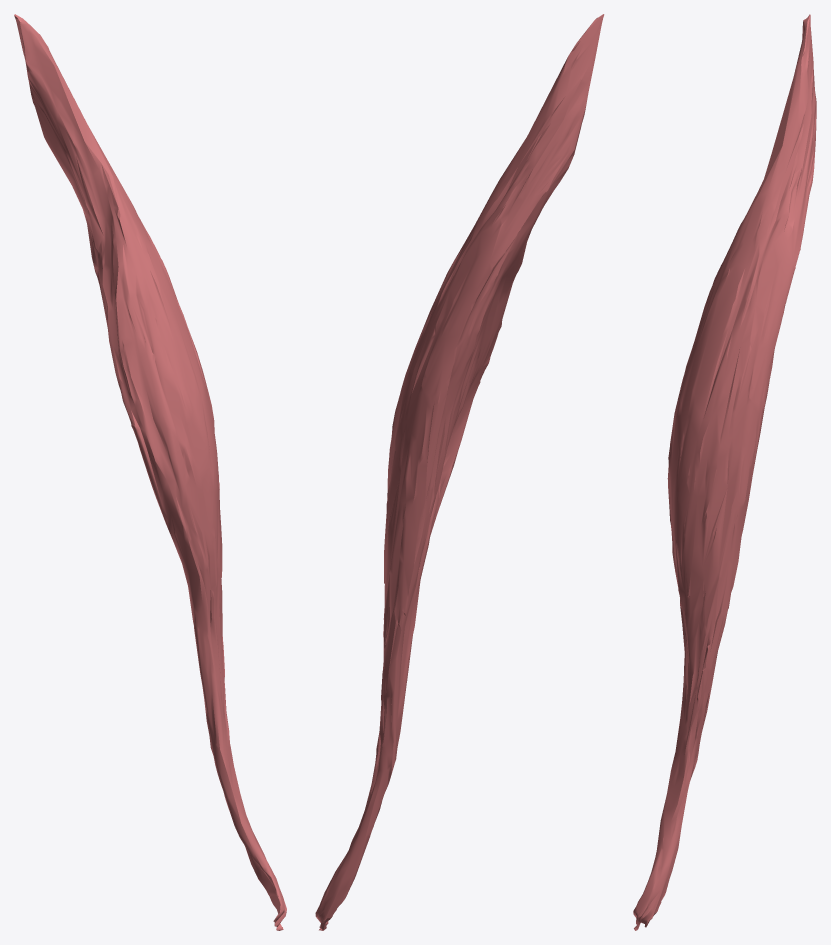
3 views of the same model, side by side, from view 1: azimuth 30°, elevation 25°; view 2: azimuth 210°, elevation 25°; view 3: azimuth 270°, elevation 25° (orthographic). The views are drawn at different scales.
Parts seen in each view (by area): view 1: FJ1487M; view 2: FJ1487M; view 3: FJ1487M.
Part boxes in pixels (<box>): FJ1487M: <box>14,14,286,930</box>; FJ1487M: <box>315,14,604,930</box>; FJ1487M: <box>633,14,816,930</box>.
Bounding box in the file's own units: 0.072 × 0.3361 × 0.0667.
